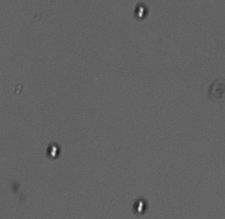Living Cell: (44, 142, 61, 160), (132, 2, 149, 20), (132, 197, 148, 215)
